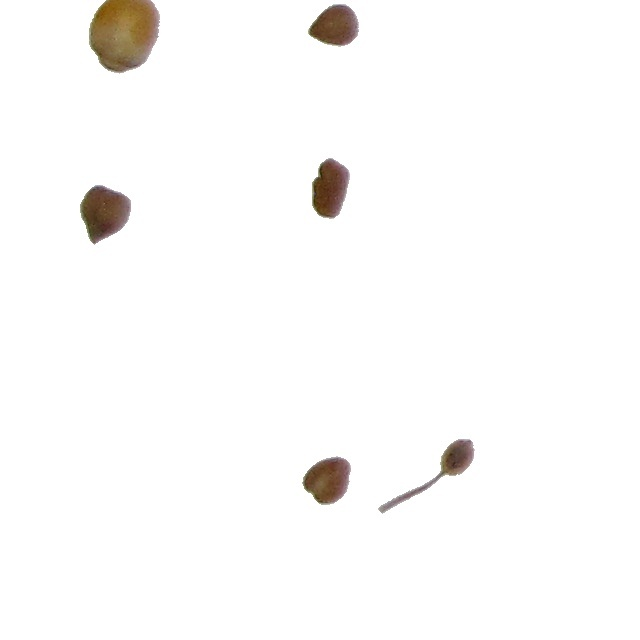buckwheat: (79, 184, 132, 246), (301, 455, 352, 506), (311, 157, 351, 220), (307, 3, 360, 48)
dill: (377, 459, 445, 515)
